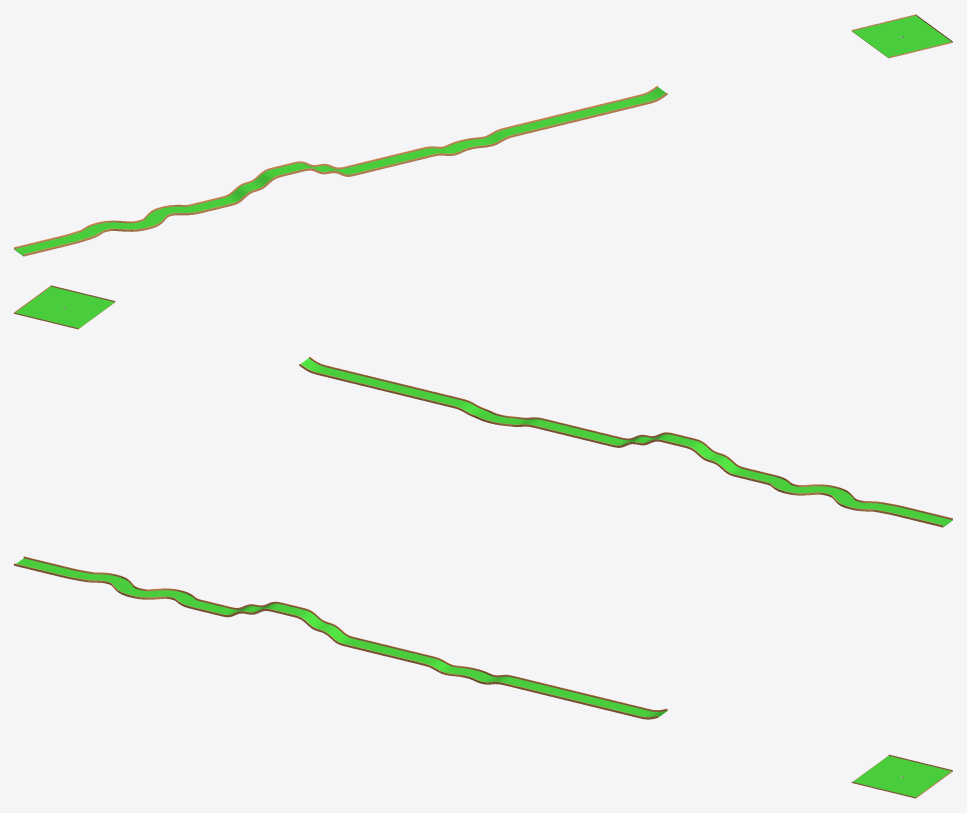
Rendered from m-golf-holes-02.glb.
The picture shows the model from 3 angles, top to bottom: view 1: azimuth 30°, elevation 25°; view 2: azimuth 150°, elevation 25°; view 3: azimuth 330°, elevation 25°; orthographic projection.
Parts seen in each view (by area): view 1: 2_Track_Visual, 2_Green_Visual; view 2: 2_Track_Visual, 2_Green_Visual; view 3: 2_Track_Visual, 2_Green_Visual.
Part boxes in pixels (x1,y1,x2,y2): 2_Track_Visual: (14,85,667,256); 2_Green_Visual: (851,14,952,58); 2_Track_Visual: (299,356,952,527); 2_Green_Visual: (14,285,115,329); 2_Track_Visual: (14,556,667,719); 2_Green_Visual: (851,754,952,798).
Size of what is drawn, in the model's own units: 114 by 2.77 by 8.
